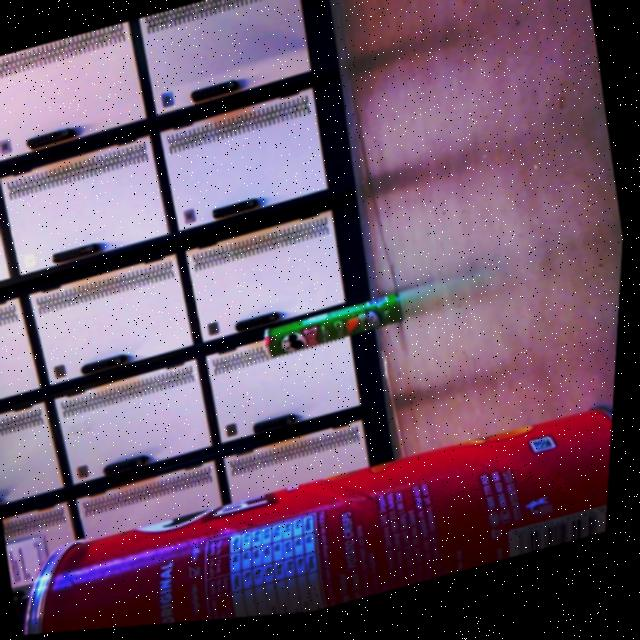greenpringles: (260, 281, 426, 375)
redpringles: (5, 369, 621, 638)
